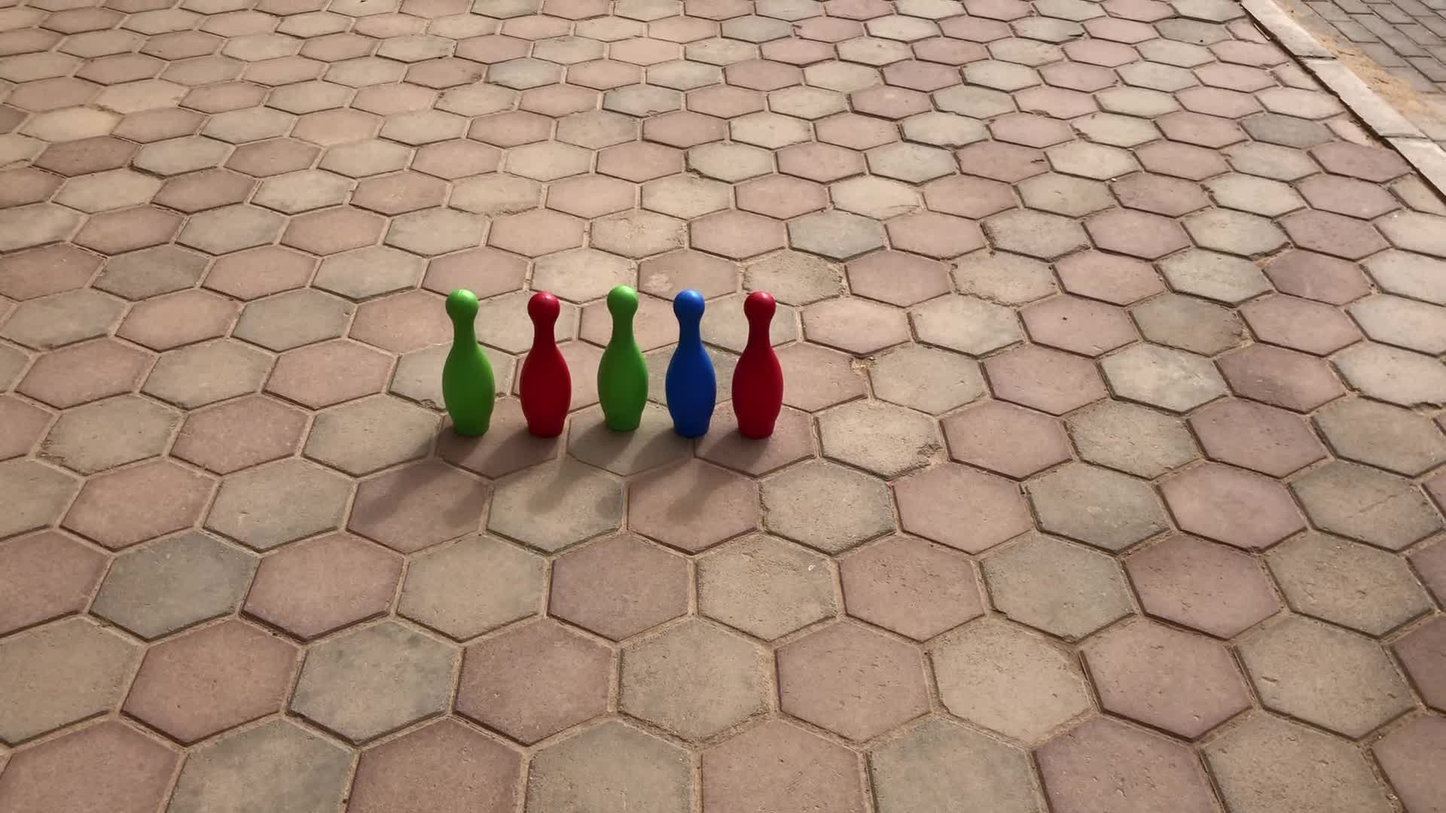bowling-pin: (441, 288, 495, 436), (732, 290, 783, 437), (520, 291, 571, 437), (666, 288, 715, 437), (599, 287, 648, 433)
